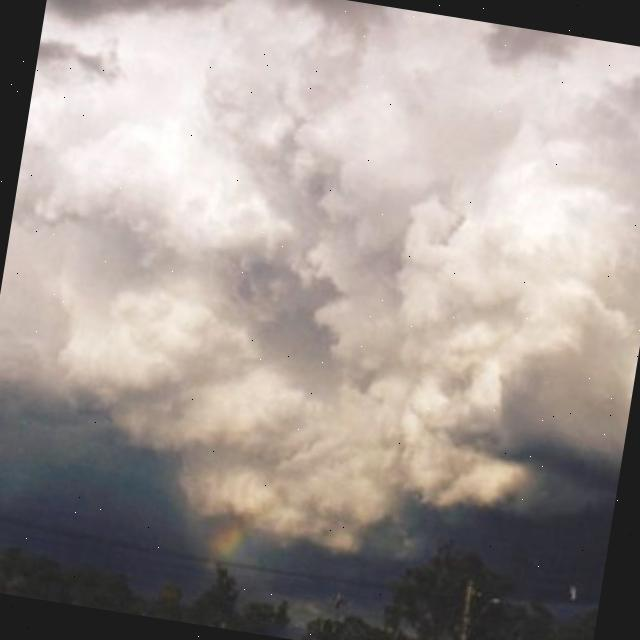Cb: (1, 1, 640, 482)
